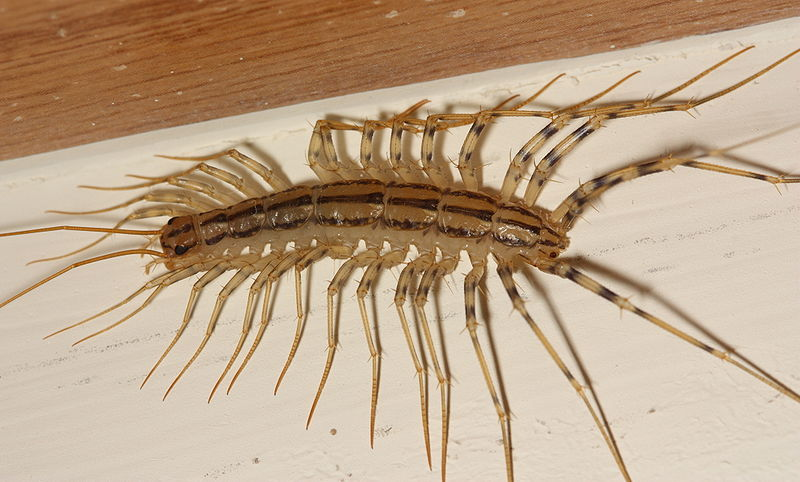centipede: (11, 60, 800, 481)
